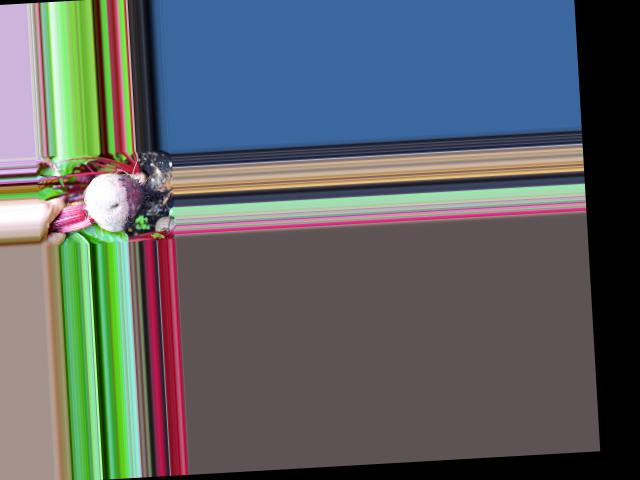beet: (44, 169, 176, 235)
